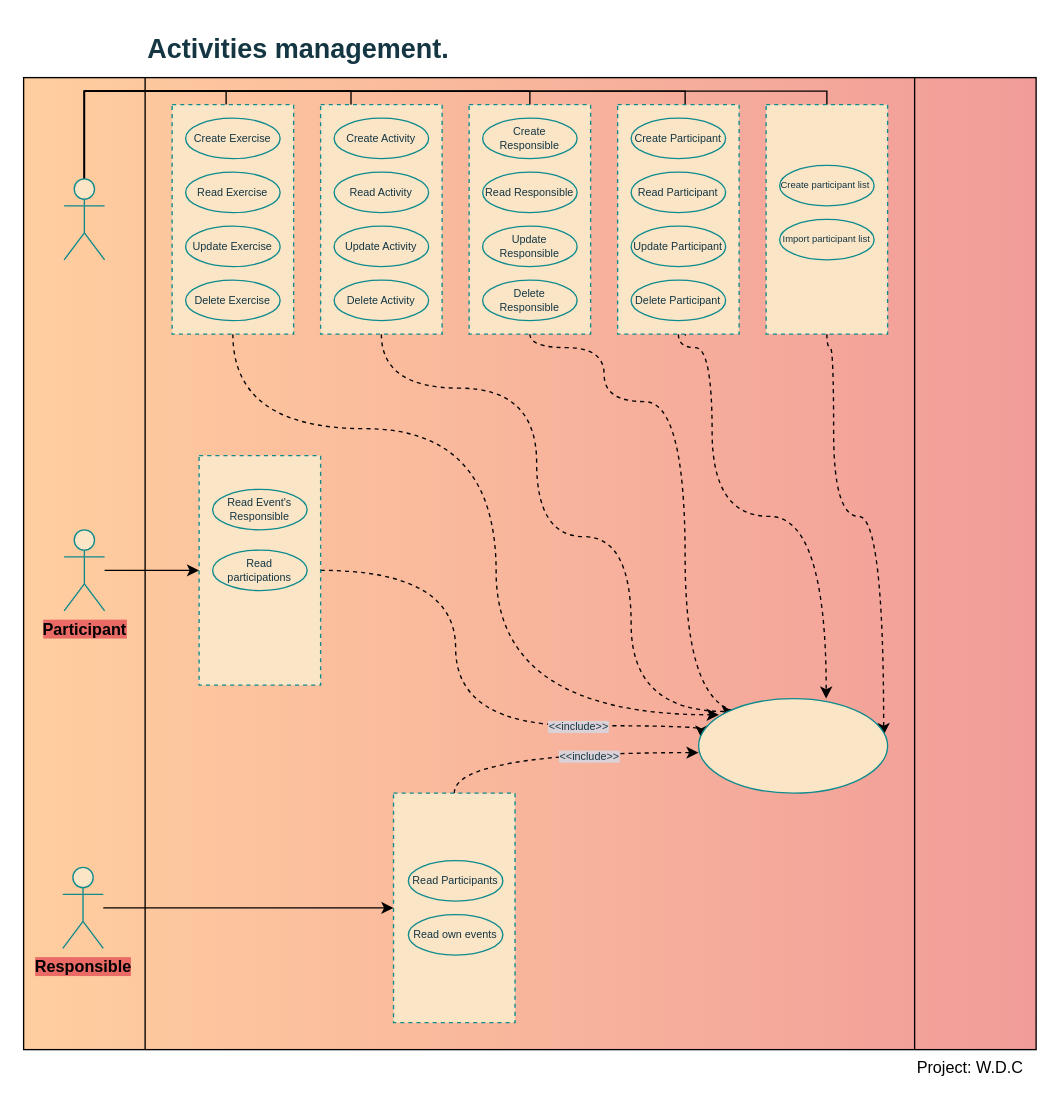
Image size: 1060x1112. Some labels were removed from this diagram. The shapes that lost their labels are listed below. From the top down, each one's centre as x and y in pixels, then its label:
At point 84,219: "Administrator".
At point 792,745: "Authentificate".
